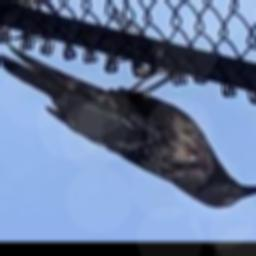Crow: (0, 43, 256, 208)
